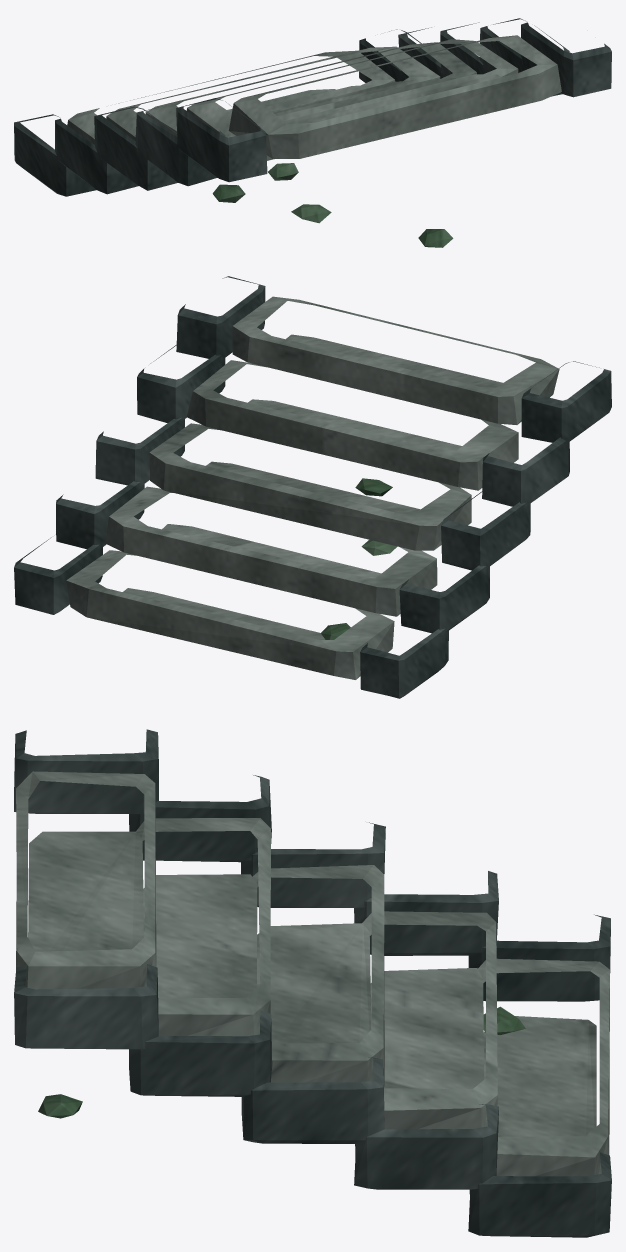
Rendered from 0357_stairs_07.glb.
The picture shows the model from 3 angles, top to bottom: view 1: azimuth 30°, elevation 25°; view 2: azimuth 150°, elevation 25°; view 3: azimuth 270°, elevation 25°; orthographic projection. The views are drawn at different scales.
Visible parts, largest first — view 1: stone, stone_dark, moss; view 2: stone, stone_dark, moss; view 3: stone, stone_dark, moss.
Part boxes in pixels (bbox=[...]): stone: bbox=[67, 35, 561, 160]; stone_dark: bbox=[14, 18, 611, 196]; moss: bbox=[212, 163, 453, 247]; stone: bbox=[66, 296, 559, 679]; stone_dark: bbox=[14, 276, 611, 698]; moss: bbox=[321, 478, 397, 639]; stone: bbox=[16, 771, 609, 1176]; stone_dark: bbox=[14, 729, 611, 1237]; moss: bbox=[38, 1006, 525, 1118].
Bounding box in the file's own units: 2.44 × 1.07 × 2.32.
3 materials, 3 textured.
